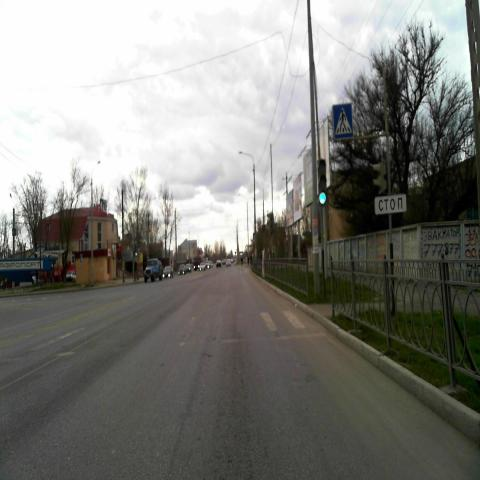5_19_1: (332, 102, 352, 140)
6_16: (374, 192, 406, 216)
